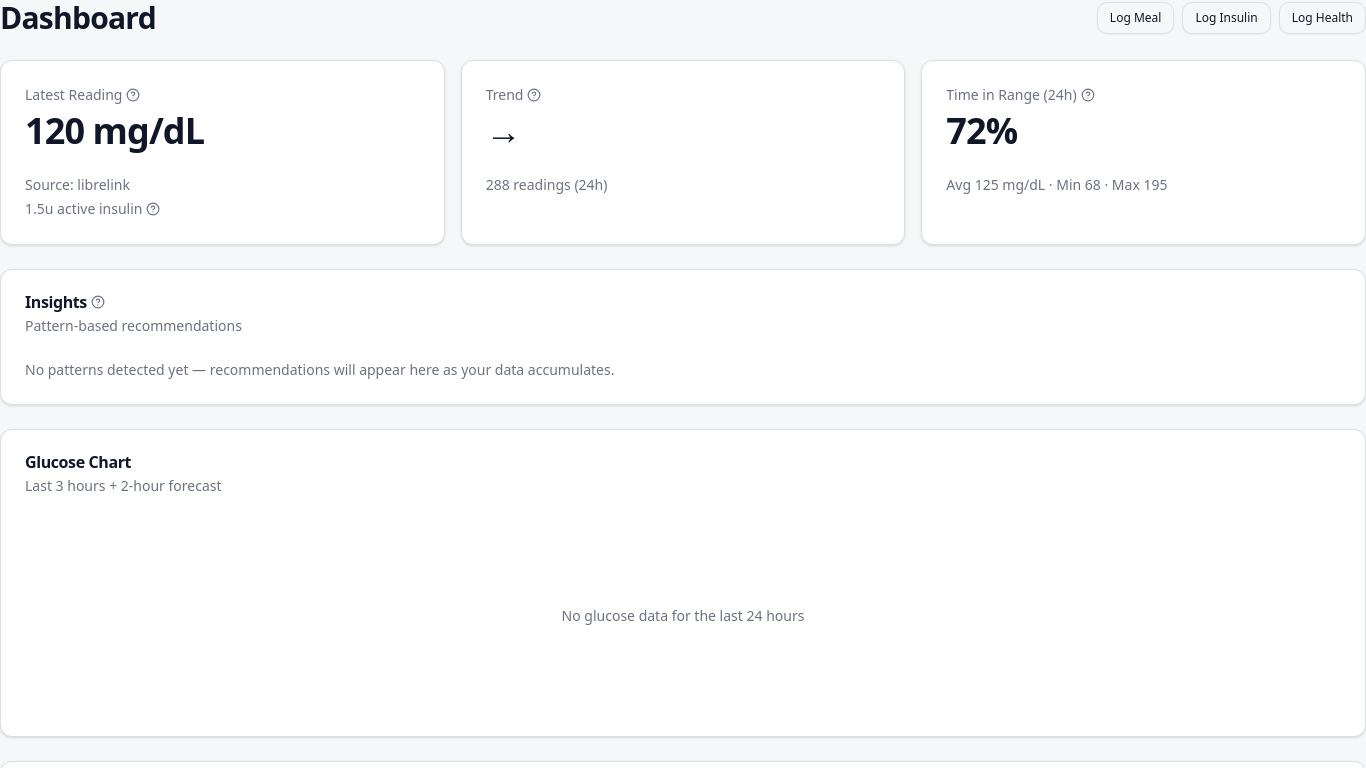
it: Dashboard — help elements (#86) › opens TIR popover on click
The image size is (1366, 768).
Click the button named "help: time in range". click: (1088, 95)
box: [1081,88,1095,102]
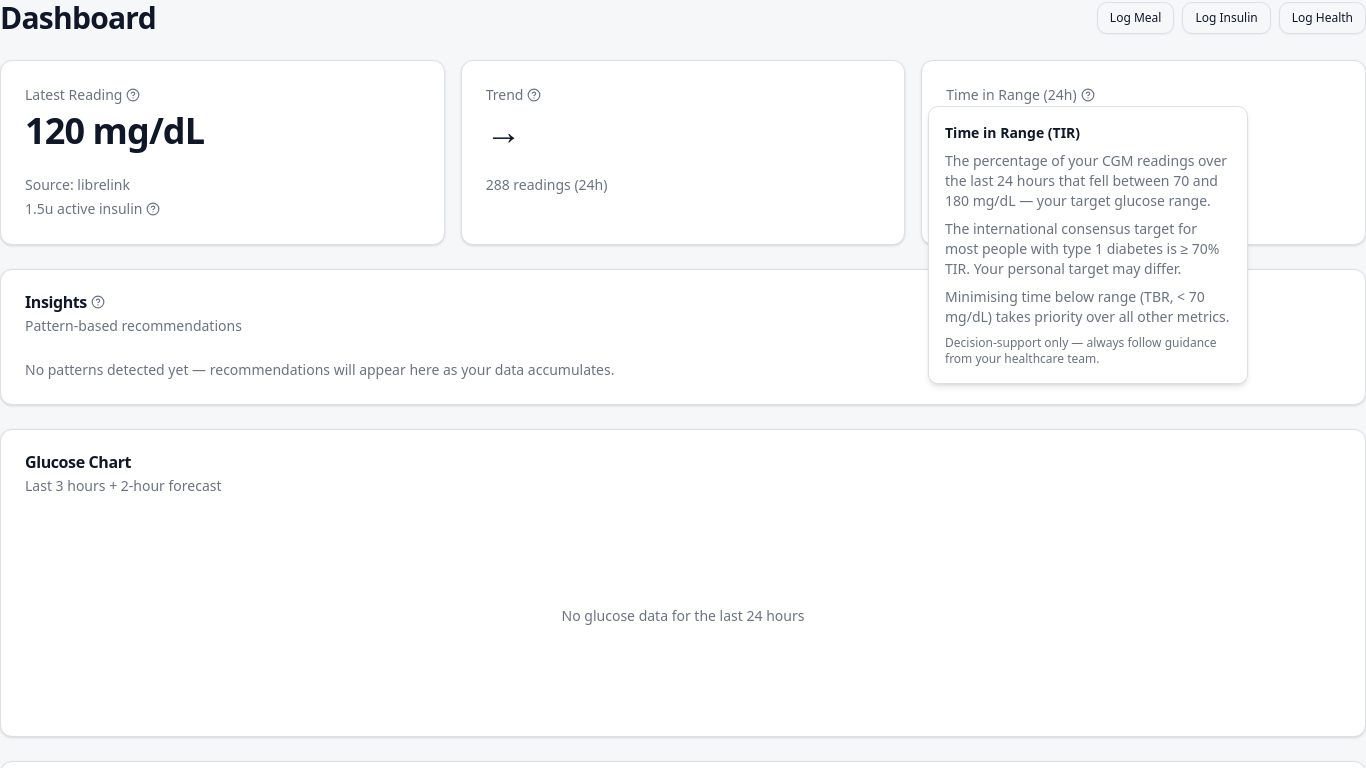
Now the text "70 and 180 mg/dL" is shown, box [945,151,1227,210]
